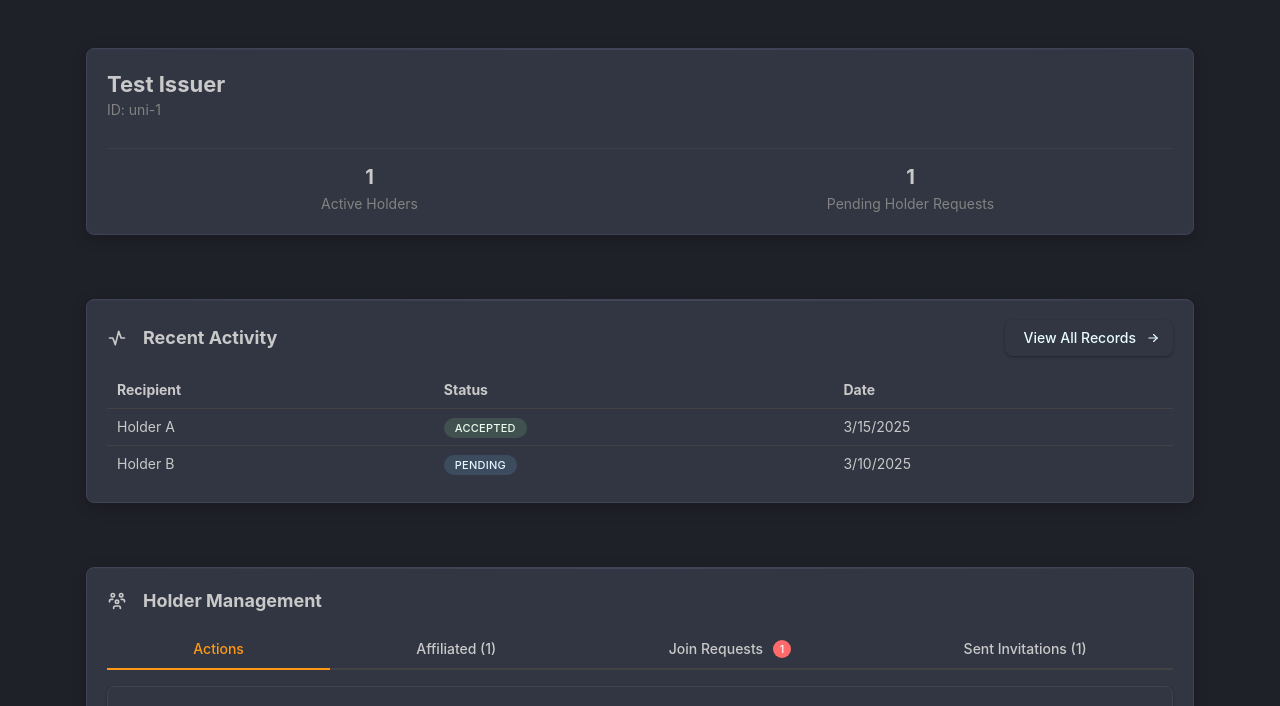
Test case: ManageIssuer component › displays active holders in the holders tab
The width and height of the screenshot is (1280, 706).
Click the tab "Affiliated (1)" at (456, 650), box [330, 630, 582, 670]
(page scrolled)
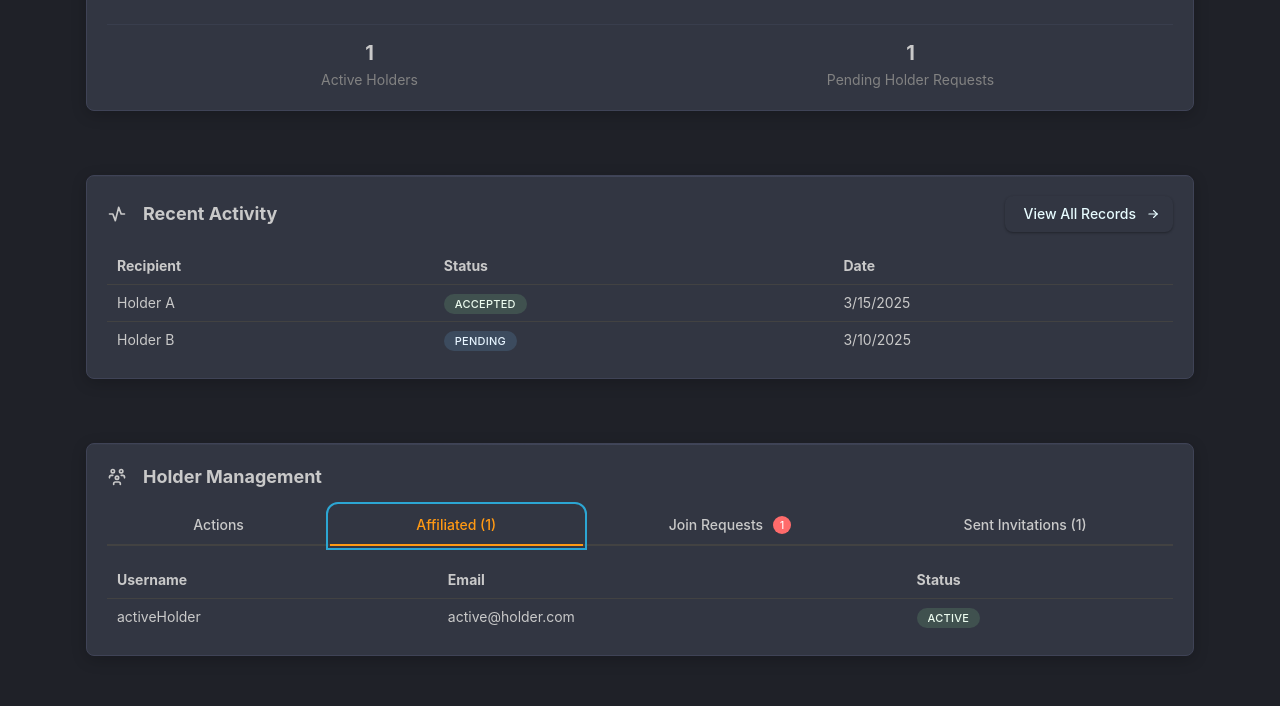
Check: the panel is shown, box [107, 546, 1173, 635]
Check: the cell "activeHolder" is shown, box [107, 598, 438, 635]
Check: the cell "active@holder.com" is shown, box [438, 598, 907, 635]
